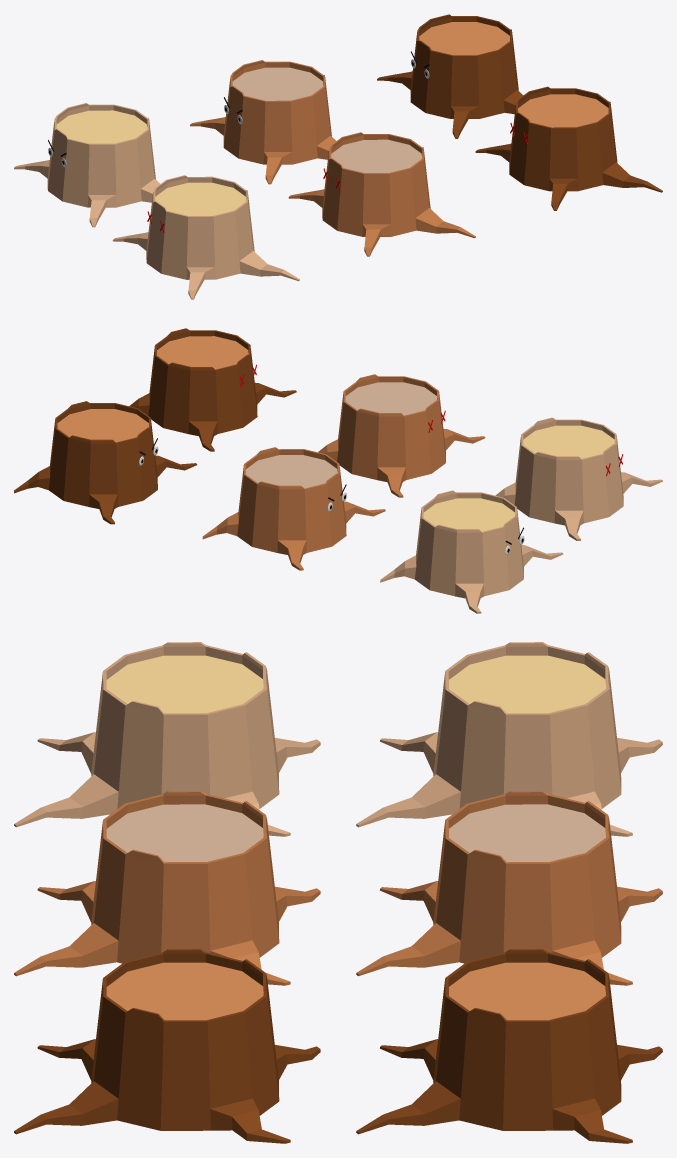
The model's file is LowpolyTreeStumpEnemies-3Kinds-3Dead.fbx.
3 renders of one model, top to bottom at view 1: azimuth 30°, elevation 25°; view 2: azimuth 150°, elevation 25°; view 3: azimuth 270°, elevation 25°, orthographic. The views are drawn at different scales.
Parts seen in each view (by area): view 1: DeadDarkWoodStump, DeadLightWoodStump, DeadWoodStump, LightWoodStump, WoodStump, DarkWoodStump; view 2: LightWoodStump, WoodStump, DarkWoodStump, DeadDarkWoodStump, DeadLightWoodStump, DeadWoodStump; view 3: DarkWoodStump, DeadDarkWoodStump, WoodStump, DeadWoodStump, LightWoodStump, DeadLightWoodStump.
Part boxes in pixels (<box>): DeadDarkWoodStump: <box>475,86,662,210</box>; DeadLightWoodStump: <box>112,175,299,299</box>; DeadWoodStump: <box>288,132,475,256</box>; LightWoodStump: <box>14,103,159,227</box>; WoodStump: <box>190,60,335,184</box>; DarkWoodStump: <box>377,14,523,138</box>; LightWoodStump: <box>380,490,563,613</box>; WoodStump: <box>202,447,385,570</box>; DarkWoodStump: <box>14,401,197,524</box>; DeadDarkWoodStump: <box>129,328,296,451</box>; DeadLightWoodStump: <box>495,417,662,540</box>; DeadWoodStump: <box>318,374,485,497</box>; DarkWoodStump: <box>356,949,662,1143</box>; DeadDarkWoodStump: <box>14,949,320,1143</box>; WoodStump: <box>356,791,662,985</box>; DeadWoodStump: <box>14,791,320,985</box>; LightWoodStump: <box>356,642,662,836</box>; DeadLightWoodStump: <box>14,642,320,836</box>.
Bounding box in the file's own units: 976 × 127 × 668.
